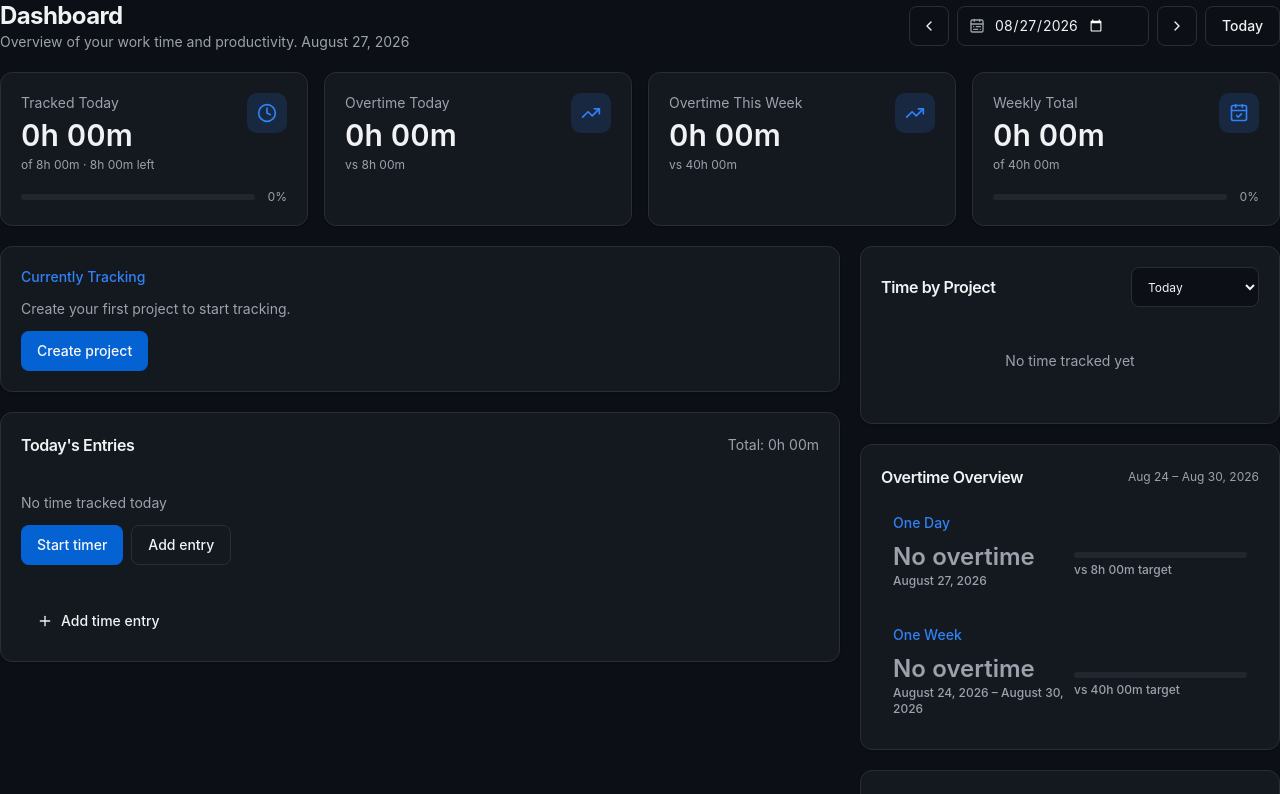
Test case: DashboardPage – dialog interactions › clicking Add entry in empty entries card opens the time entry dialog
Check: the text "No time tracked today" is shown, box [21, 493, 167, 513]
Step 1. Click the button "Add entry" → [181, 545], box [131, 525, 231, 565]
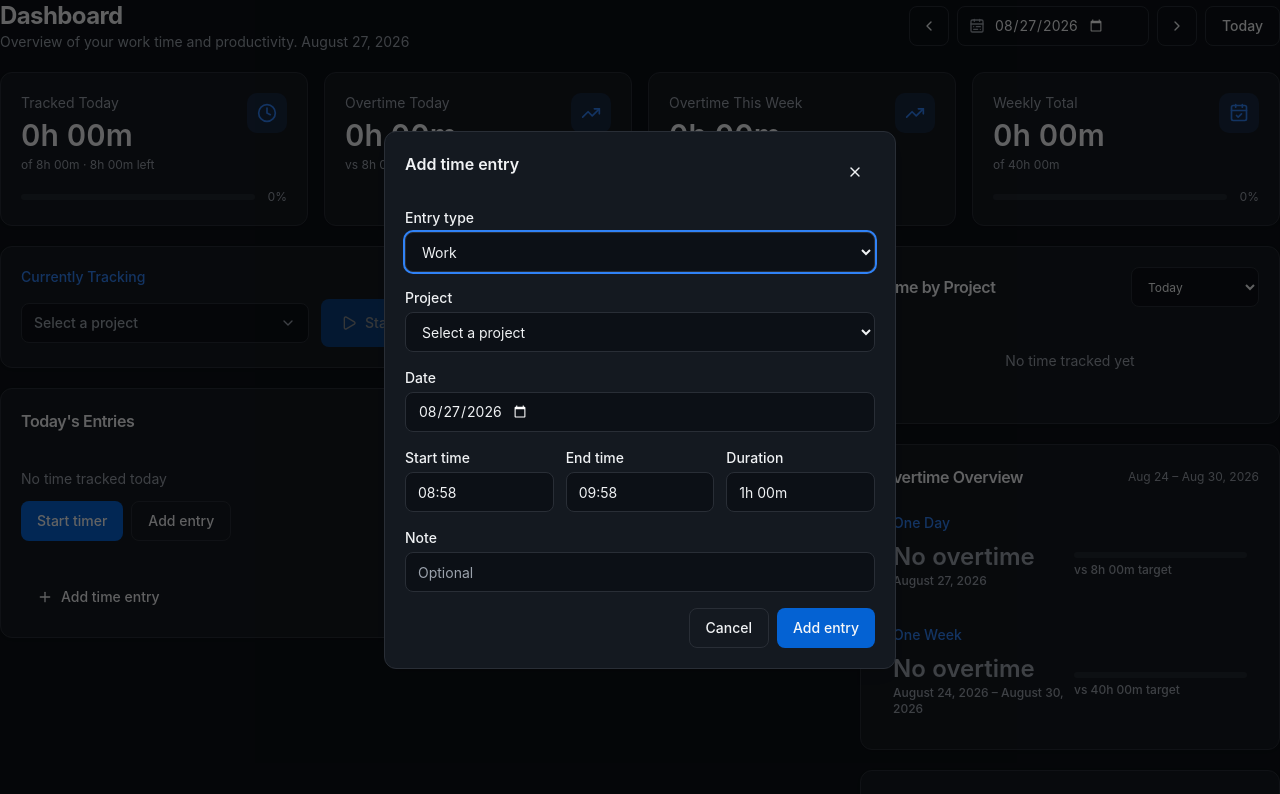
Check: the dialog is shown, box [384, 131, 896, 669]
